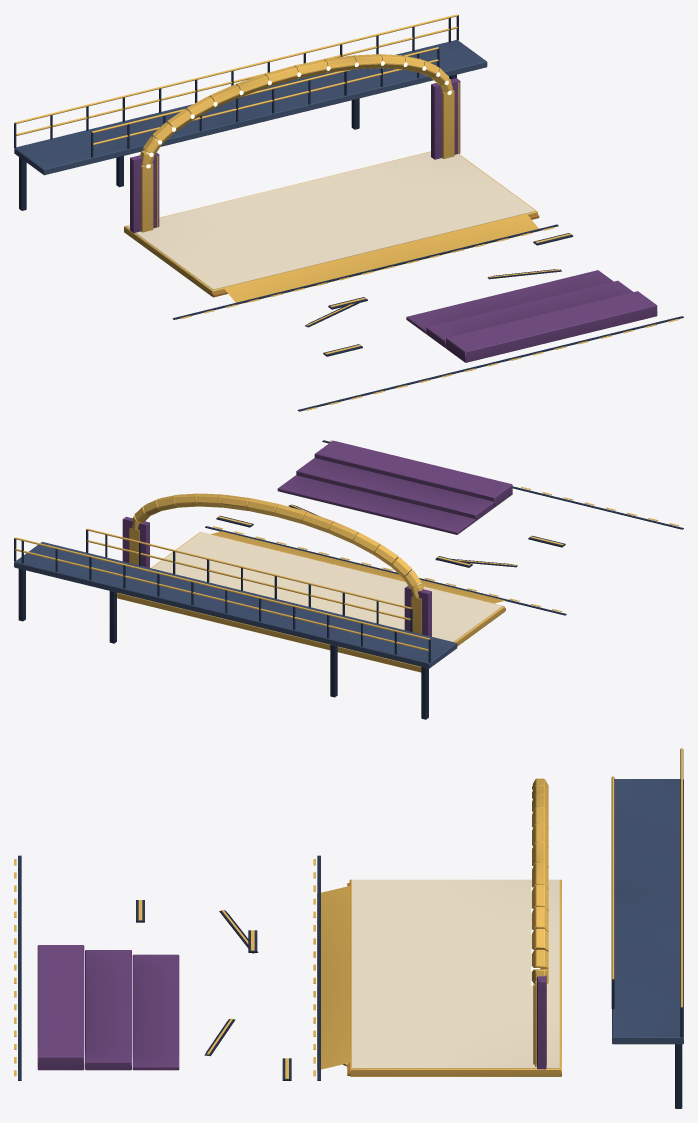
Rendered from stage.glb.
The picture shows the model from 3 angles, top to bottom: view 1: azimuth 30°, elevation 25°; view 2: azimuth 150°, elevation 25°; view 3: azimuth 270°, elevation 25°; orthographic projection. The views are drawn at different scales.
Parts seen in each view (by area): view 1: stage; view 2: stage; view 3: stage.
Part boxes in pixels (box(x1,y1,x2,y2)): stage: box(14, 14, 683, 411); stage: box(14, 440, 683, 719); stage: box(14, 748, 683, 1108).
Bounding box in the file's own units: 19.65 × 5.61 × 21.44.
